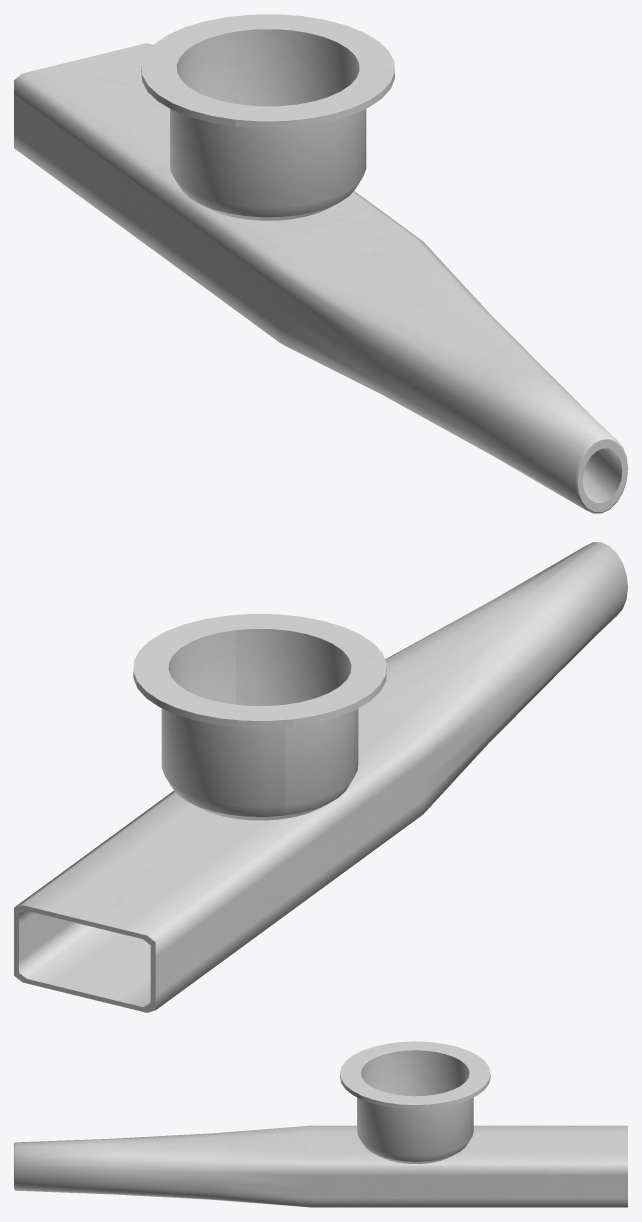
File: kazoo.glb
3 renders of one model, top to bottom at view 1: azimuth 30°, elevation 25°; view 2: azimuth 150°, elevation 25°; view 3: azimuth 270°, elevation 25°, orthographic. The views are drawn at different scales.
Parts seen in each view (by area): view 1: Kazoo; view 2: Kazoo; view 3: Kazoo.
Boxes of the visible parts, x1,y1,x2,y2 form: Kazoo: (14,14,627,513); Kazoo: (14,542,627,1012); Kazoo: (14,1041,627,1207).
Bounding box in the file's own units: 3.05 × 2.62 × 12.41.
Materials: 1 (1 with a texture image).
